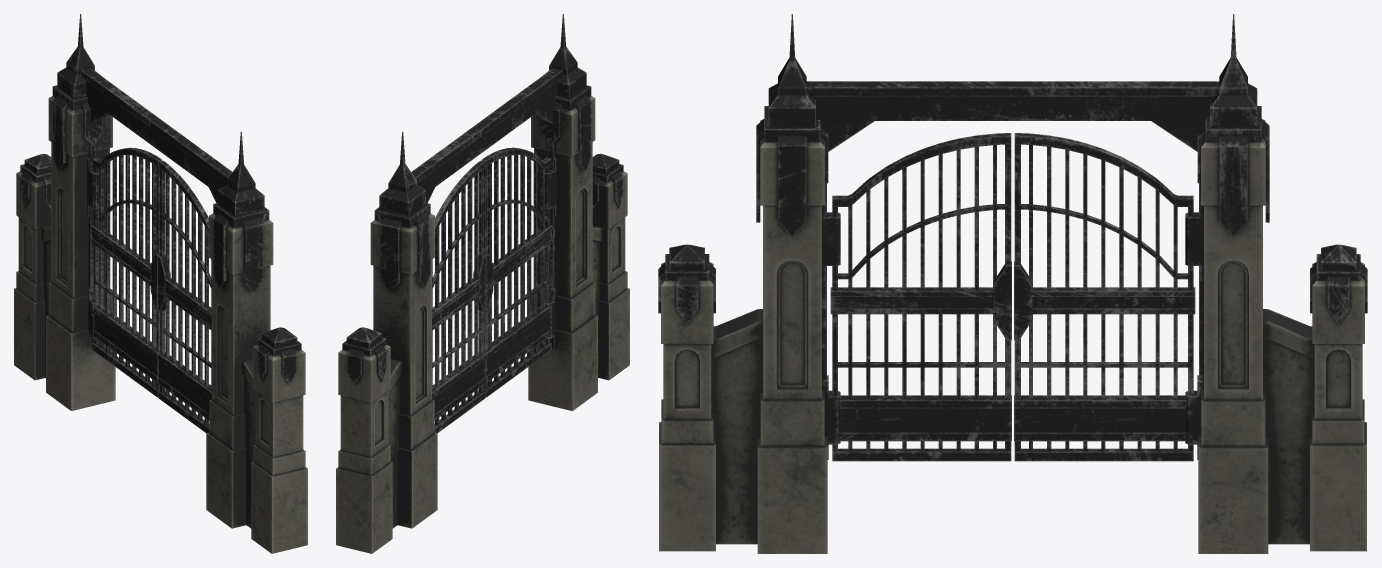
Rendered from SM_Gate.fbx.
3 views of the same model, side by side, from view 1: azimuth 30°, elevation 25°; view 2: azimuth 150°, elevation 25°; view 3: azimuth 270°, elevation 25° (orthographic). The views are drawn at different scales.
Visible parts, largest first — view 1: SM_Gate; view 2: SM_Gate; view 3: SM_Gate.
Part boxes in pixels (x1,y1,x2,y2): SM_Gate: (14, 14, 307, 553); SM_Gate: (336, 14, 629, 553); SM_Gate: (658, 14, 1367, 553).
Size of the model in its own units: 88.29 by 873 by 713.
